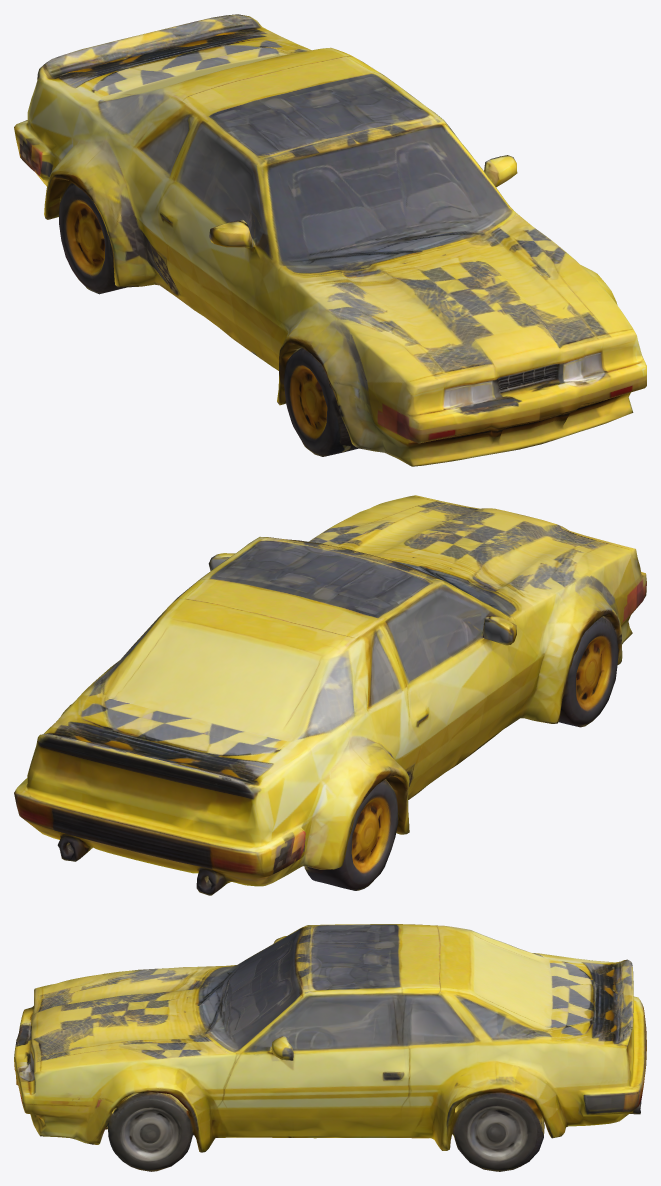
Rendered from Coche_lowpoly_ambient_0203112853_texture.fbx.
3 renders of one model, top to bottom at view 1: azimuth 30°, elevation 25°; view 2: azimuth 150°, elevation 25°; view 3: azimuth 270°, elevation 25°, orthographic. The views are drawn at different scales.
Parts seen in each view (by area): view 1: Mesh1_Mesh1.012; view 2: Mesh1_Mesh1.012; view 3: Mesh1_Mesh1.012.
Boxes of the visible parts, x1,y1,x2,y2 form: Mesh1_Mesh1.012: (14,14,646,466); Mesh1_Mesh1.012: (14,495,646,895); Mesh1_Mesh1.012: (14,924,646,1171).
Size of the model in its own units: 87.68 by 57.75 by 200.
1 material, 1 textured.
